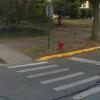Crosswalk: (17, 55, 100, 100)
